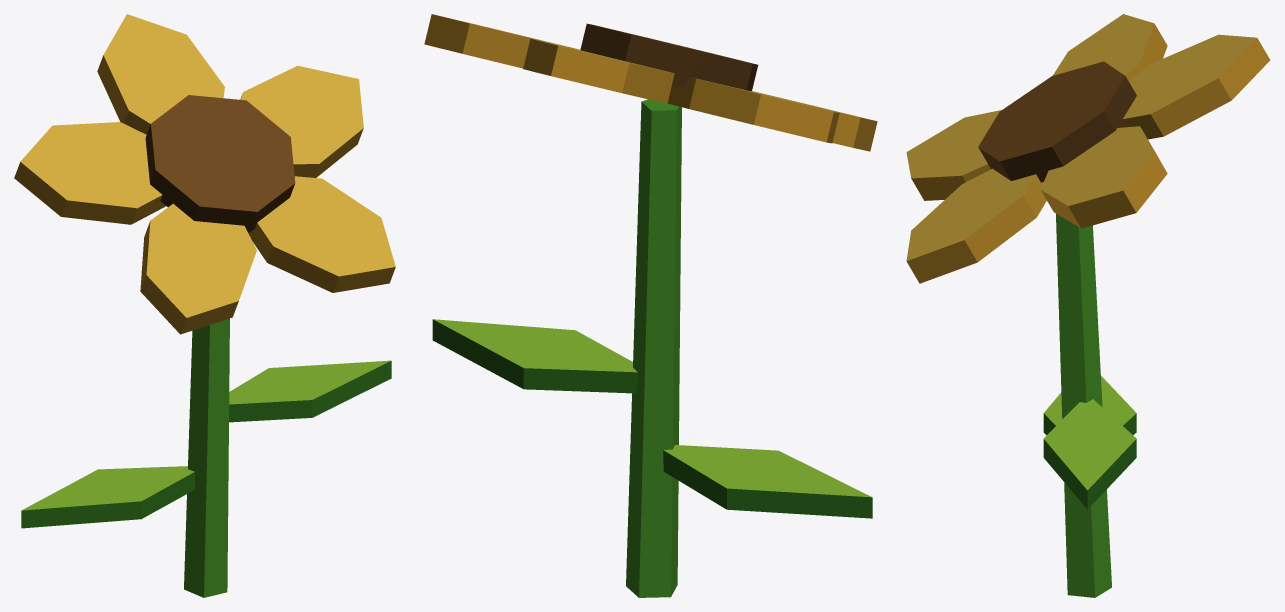
File: flower_yellow.fbx
The picture shows the model from 3 angles, left to right: view 1: azimuth 30°, elevation 25°; view 2: azimuth 150°, elevation 25°; view 3: azimuth 270°, elevation 25°; orthographic projection. The views are drawn at different scales.
Visible parts, largest first — view 1: flower_yellow; view 2: flower_yellow; view 3: flower_yellow.
Part boxes in pixels (x1,y1,x2,y2): flower_yellow: (14,14,395,597); flower_yellow: (424,14,877,597); flower_yellow: (906,14,1270,597).
Size of the model in its own units: 0.26 by 0.3462 by 0.2072.
